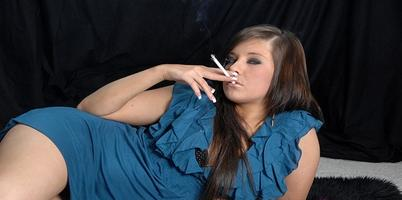person: (2, 25, 321, 200)
